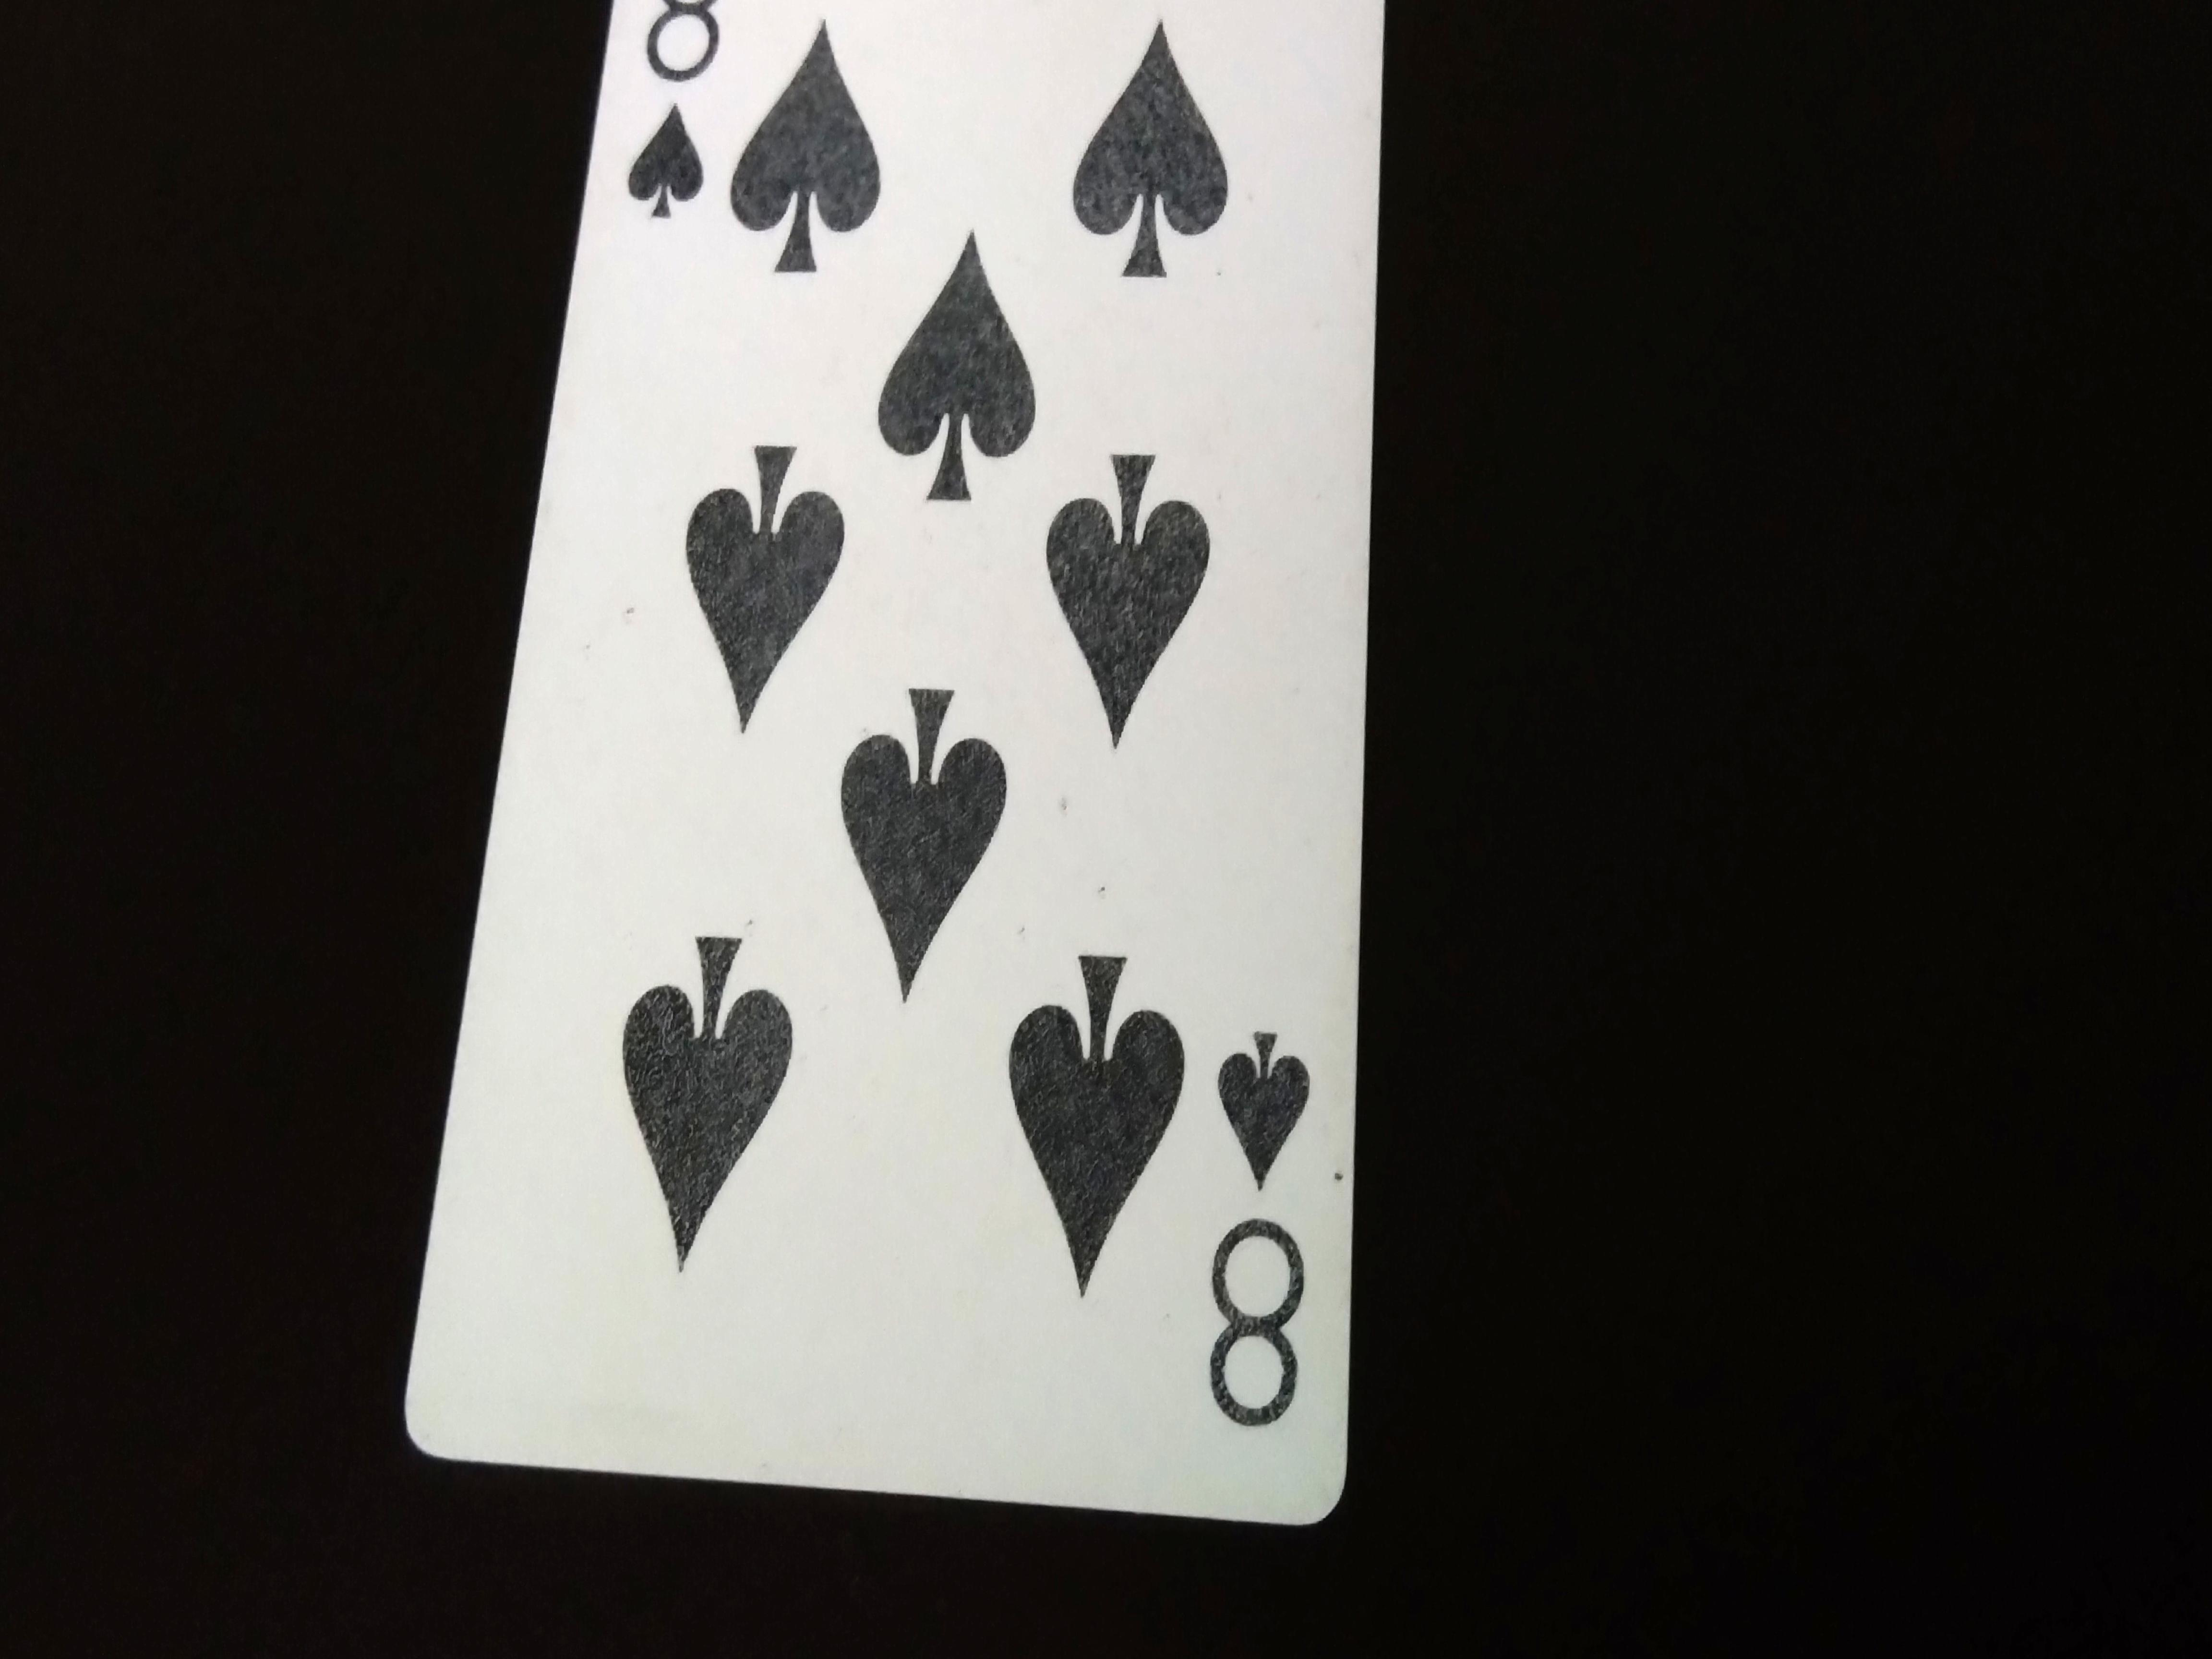8S: (1204, 979, 1332, 1481)
